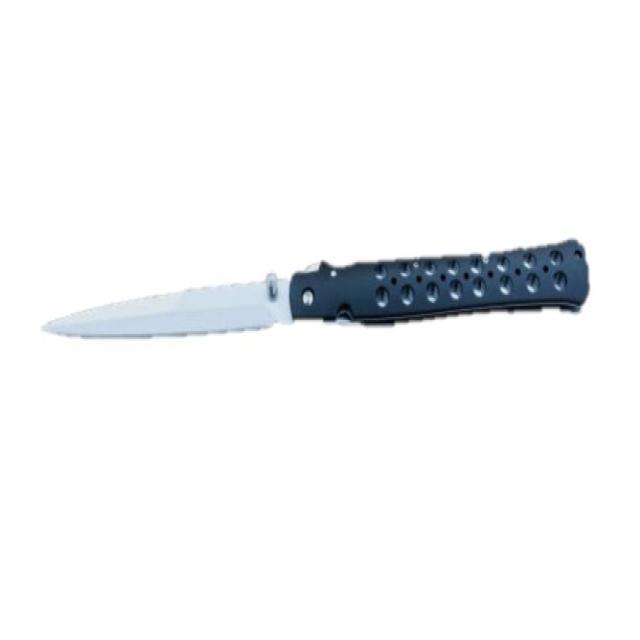knife: (40, 233, 598, 368)
